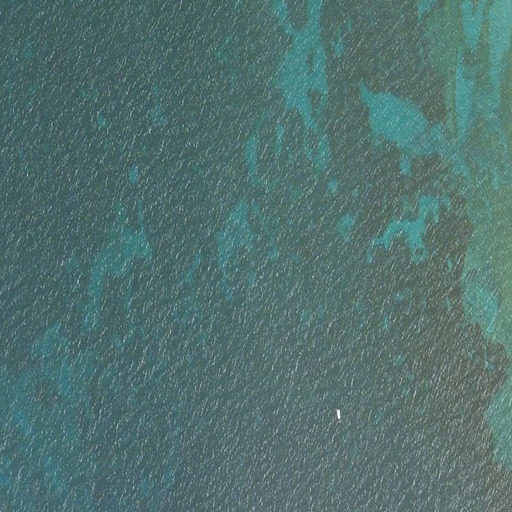ship: (336, 408, 341, 421)
